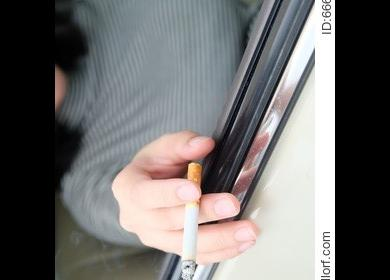Cigarette: (179, 161, 206, 280)
